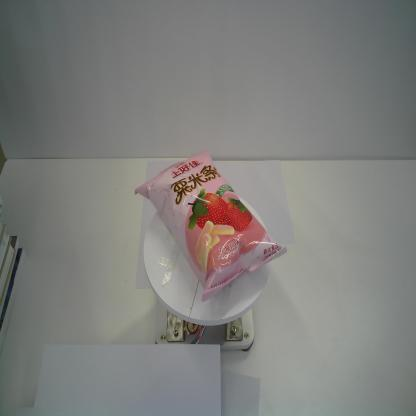Puffed Food: (134, 148, 288, 302)
